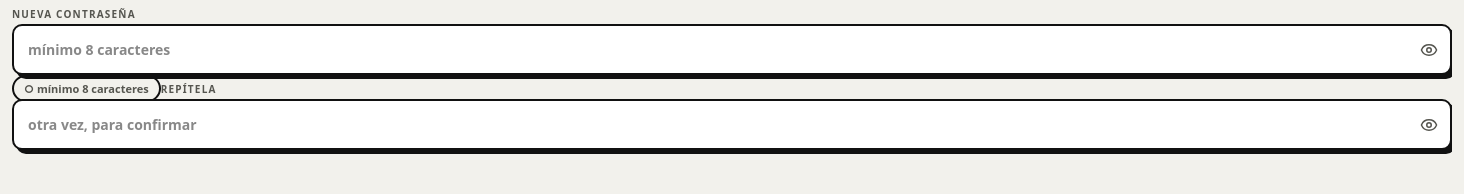
Test case: ParContrasenas — pistas en vivo › avisa el mínimo, luego que no coinciden, luego que sí
This screenshot has width=1464, height=194.
In the password field with placeholder "mínimo 8 caracteres": (732, 50) x1=12 y1=24 x2=1452 y2=75, type "corta"
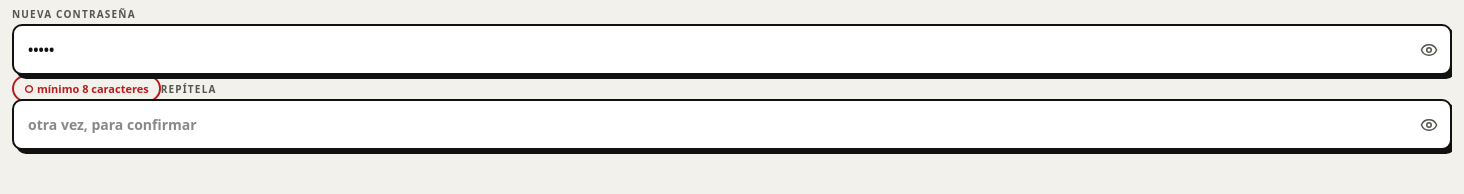
In the password field with placeholder "mínimo 8 caracteres": (732, 50) x1=12 y1=24 x2=1452 y2=75, type "12345678"
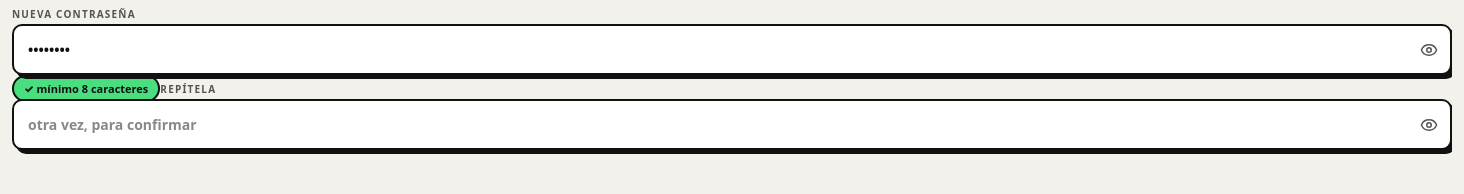
In the password field with placeholder "otra vez, para confirmar": (732, 124) x1=12 y1=99 x2=1452 y2=150, type "1234567"
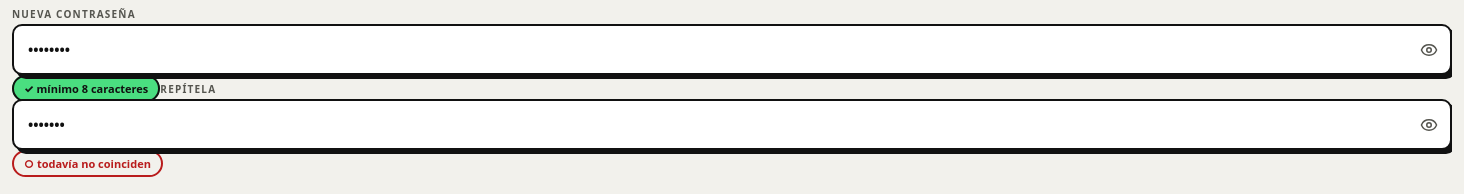
Now the text "○ todavía no coinciden" is shown, box x1=12 y1=150 x2=163 y2=177
In the 2nd password field with placeholder "otra vez, para confirmar": (732, 124) x1=12 y1=99 x2=1452 y2=150, type "8"
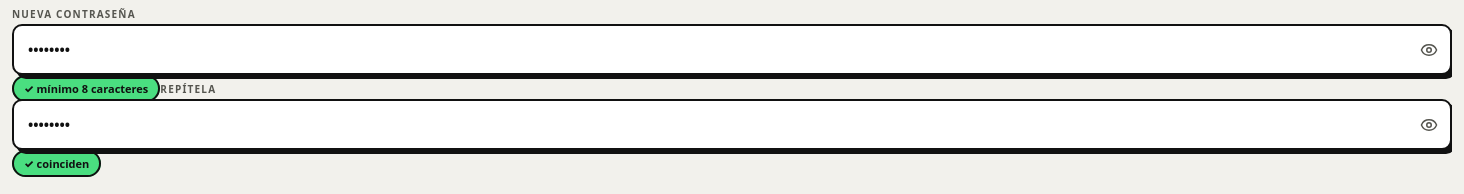
Now the text "✓ coinciden" is shown, box x1=12 y1=150 x2=101 y2=177
